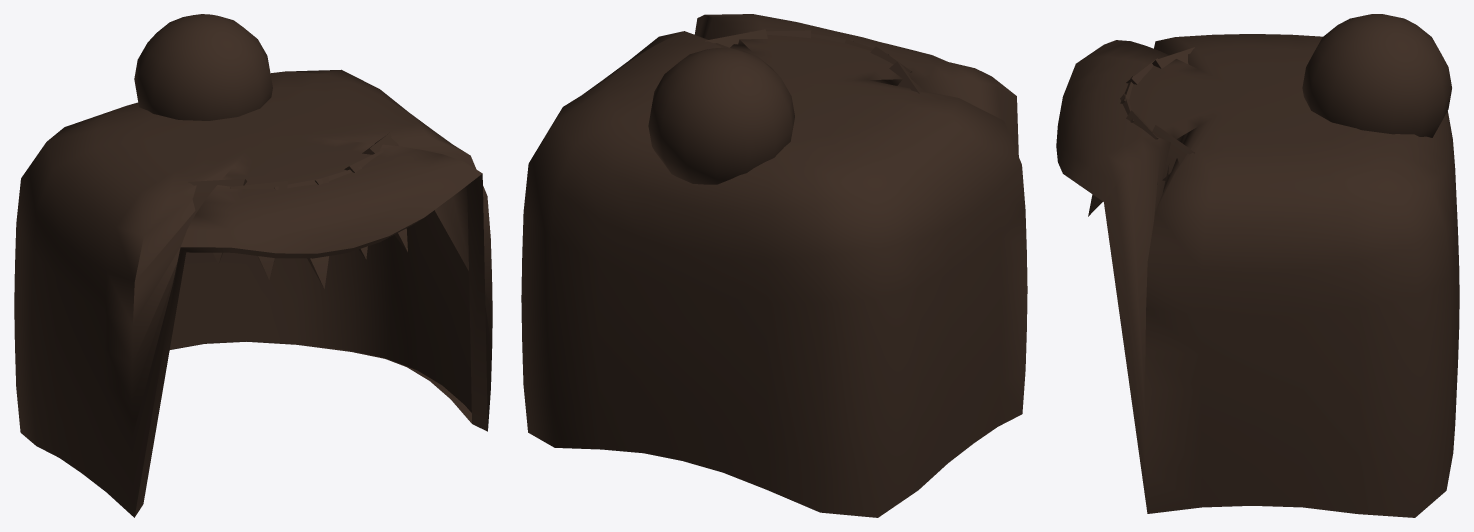
The model's file is Cuerpo_Pelo_Rodete.fbx.
3 views of the same model, side by side, from view 1: azimuth 30°, elevation 25°; view 2: azimuth 150°, elevation 25°; view 3: azimuth 270°, elevation 25° (orthographic). The views are drawn at different scales.
Parts seen in each view (by area): view 1: Cuerpo_Pelo_Rodete; view 2: Cuerpo_Pelo_Rodete; view 3: Cuerpo_Pelo_Rodete.
Part boxes in pixels (x1,y1,x2,y2): Cuerpo_Pelo_Rodete: [14, 14, 492, 517]; Cuerpo_Pelo_Rodete: [521, 14, 1027, 517]; Cuerpo_Pelo_Rodete: [1056, 14, 1459, 517].
Size of the model in its own units: 1.29 by 1.3 by 1.15.
